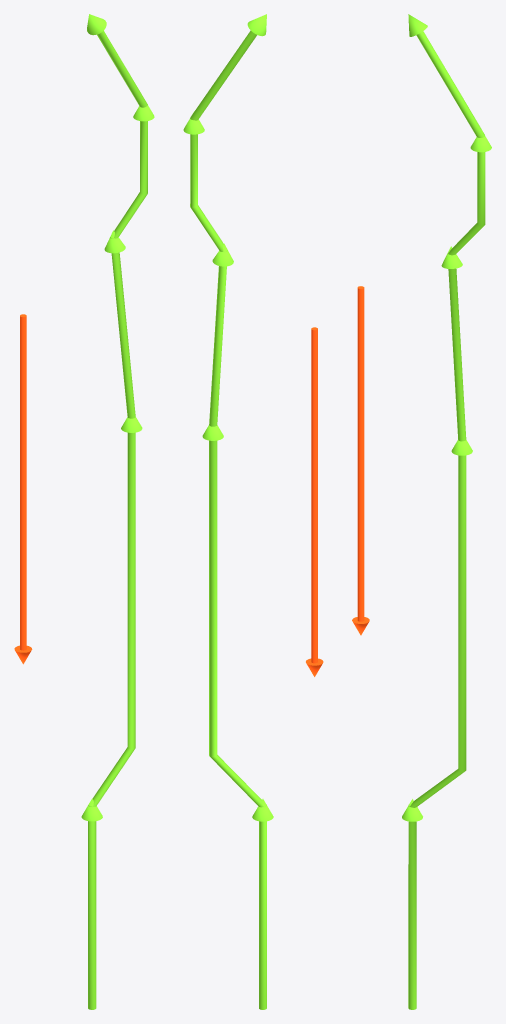
File: fluidized_bed_reactor_flow.glb
3 renders of one model, left to right at view 1: azimuth 30°, elevation 25°; view 2: azimuth 150°, elevation 25°; view 3: azimuth 330°, elevation 25°, orthographic.
Visible parts, largest first — view 1: fluidizing_gas, solids_return; view 2: fluidizing_gas, solids_return; view 3: fluidizing_gas, solids_return.
Boxes of the visible parts, left/top/right/bottom form: fluidizing_gas: left=81, top=14, right=154, bottom=1009; solids_return: left=14, top=314, right=32, bottom=664; fluidizing_gas: left=183, top=14, right=273, bottom=1009; solids_return: left=306, top=327, right=323, bottom=676; fluidizing_gas: left=402, top=14, right=491, bottom=1009; solids_return: left=352, top=286, right=369, bottom=635.
Bounding box in the file's own units: 0.4622 × 3.2 × 0.1124.
